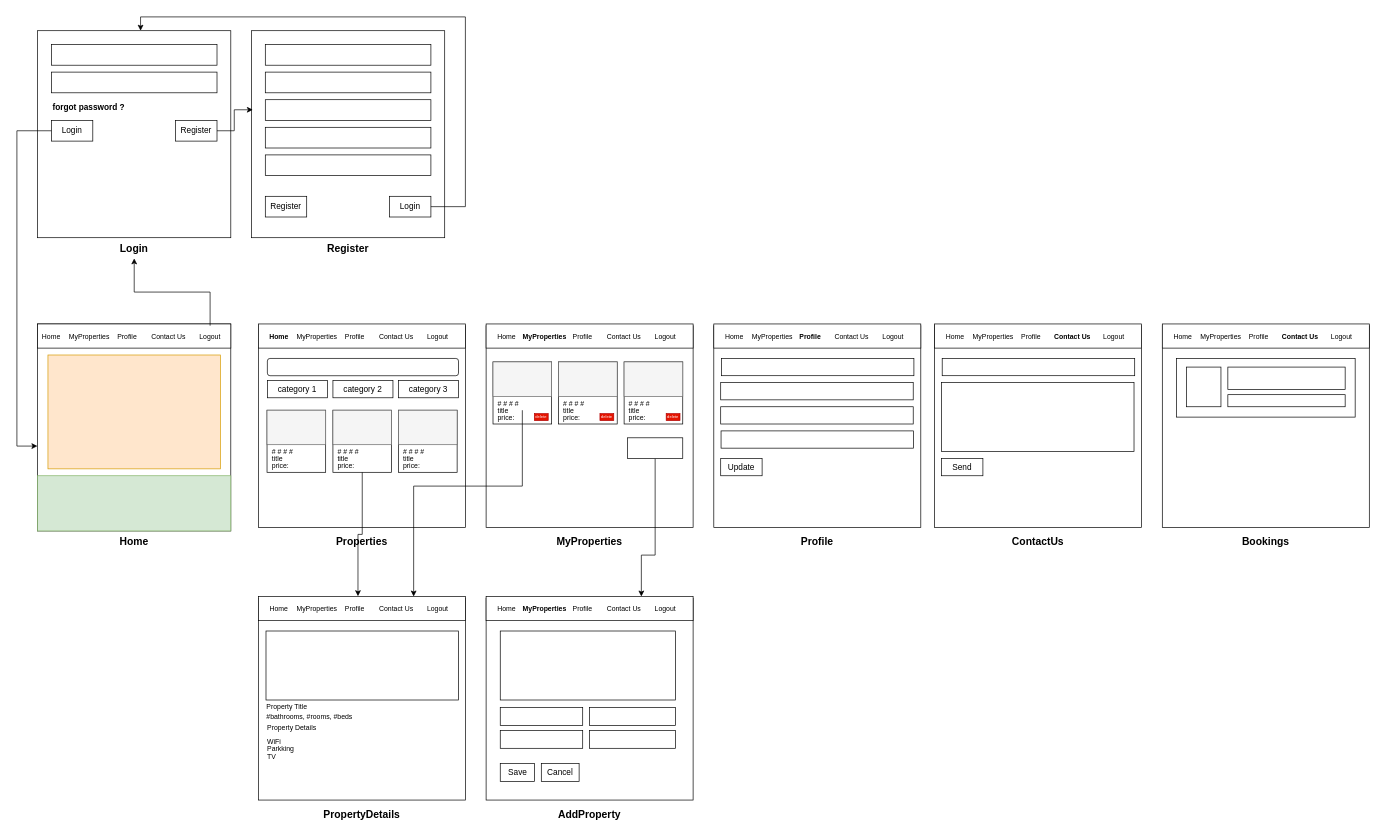
The diagram is 1381 pixels wide and 836 high, and some of its shapes have lost their labels. The shapes that lost their labels are listed below. From the top down, each one's centre as x and y in pixels, then its label:
the point at 363,367: search properties
the point at 133,411: <Outlet />
the point at 655,448: Add Property
